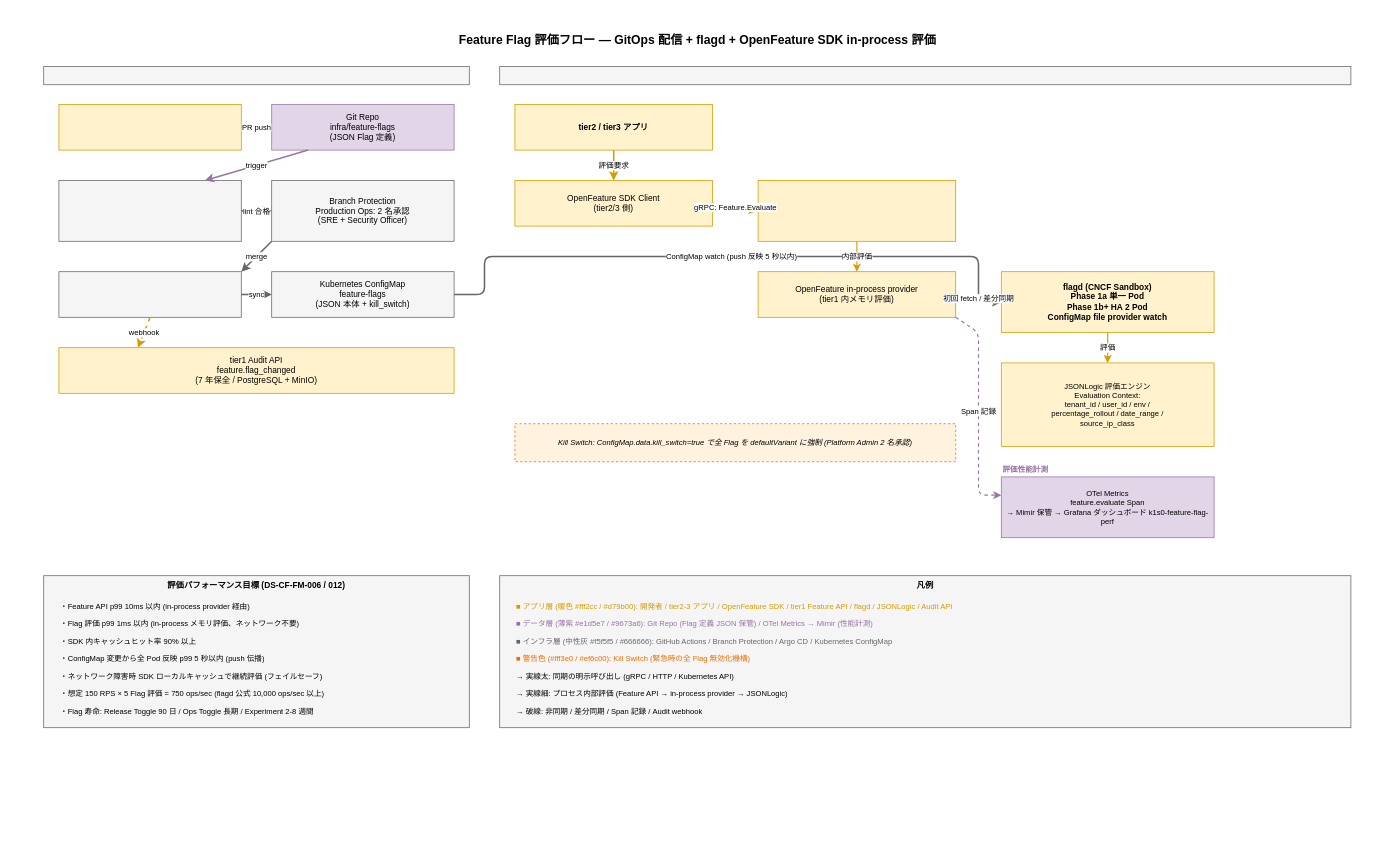
This 1394x862 diagram has some shape labels left out. Each missing label, with the centre of its shape:
Argo CD (GitOps Sync): the point at 149,294
GitHub Actions CI k1s0-feature-flag-lint (期限 / 孤立 / 所有者 / ハードコード): the point at 149,210
tier1 Feature API (gRPC ラッパ / Go ファサード) FR-T1-FEATURE-001〜004: the point at 856,210
右レーン: 評価経路 (tier2/3 → Feature API → OpenFeature SDK in-process): the point at 925,75
左レーン: GitOps 配信経路 (Flag 定義の管理 → ConfigMap 反映): the point at 256,75
開発者 (team-workflow 他): the point at 149,127
